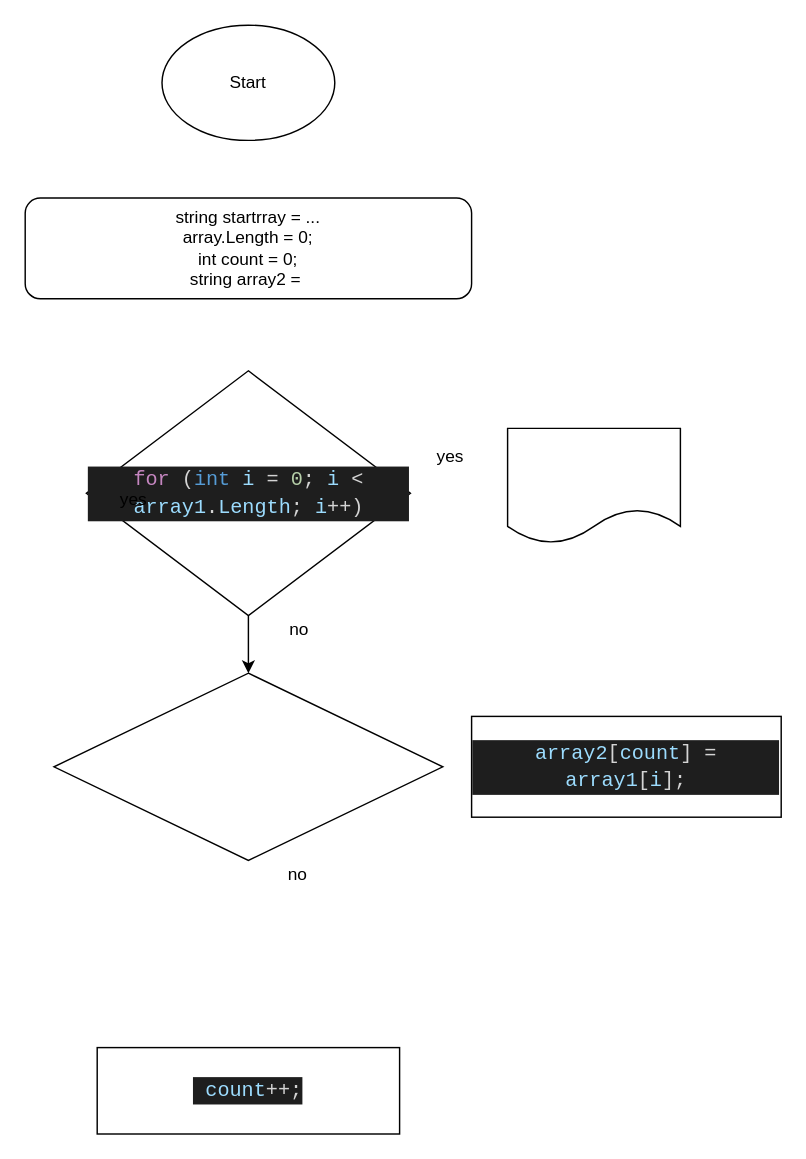
This 806x1159 diagram has some shape labels left out. The centre of each missing label's shape, as x and y in pixels:
"array1 [ i ] . Length <= 3" goes at (248,766).
"print array2" goes at (593,485).
